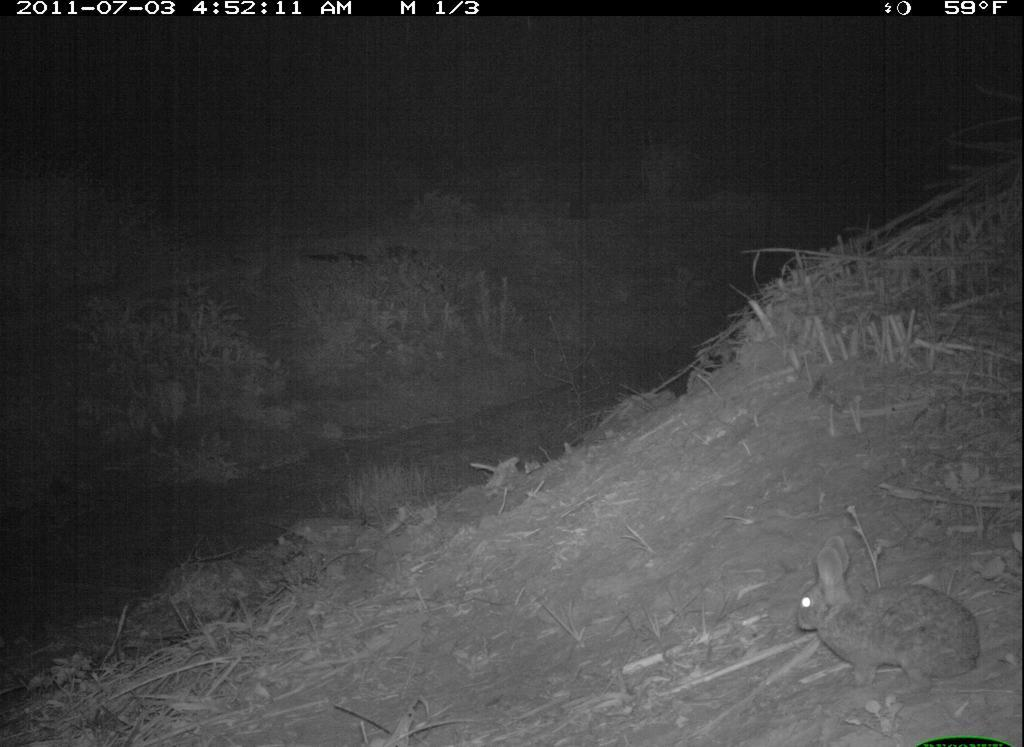rabbit: (788, 525, 1004, 693)
